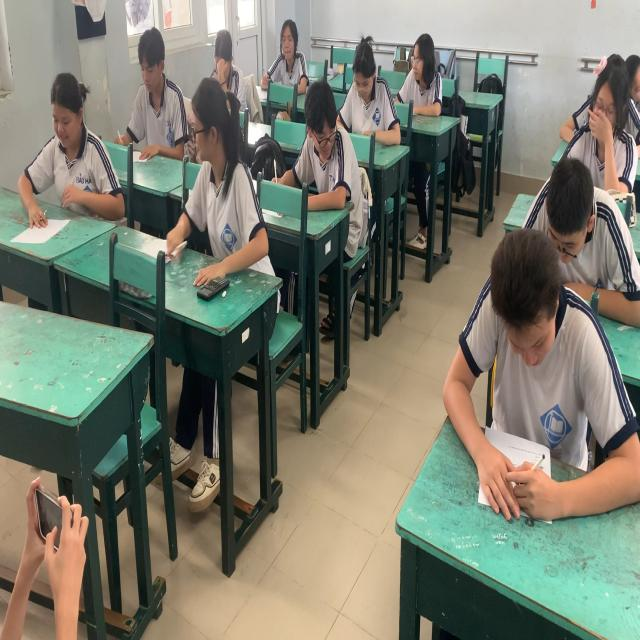cheating: (181, 80, 261, 292), (287, 80, 356, 221)
not_cheating: (458, 235, 620, 514), (525, 148, 634, 282), (25, 67, 105, 239), (570, 73, 639, 189), (136, 21, 190, 167), (344, 37, 404, 154), (402, 28, 452, 130), (599, 28, 640, 120), (272, 10, 307, 106), (210, 15, 240, 115)
